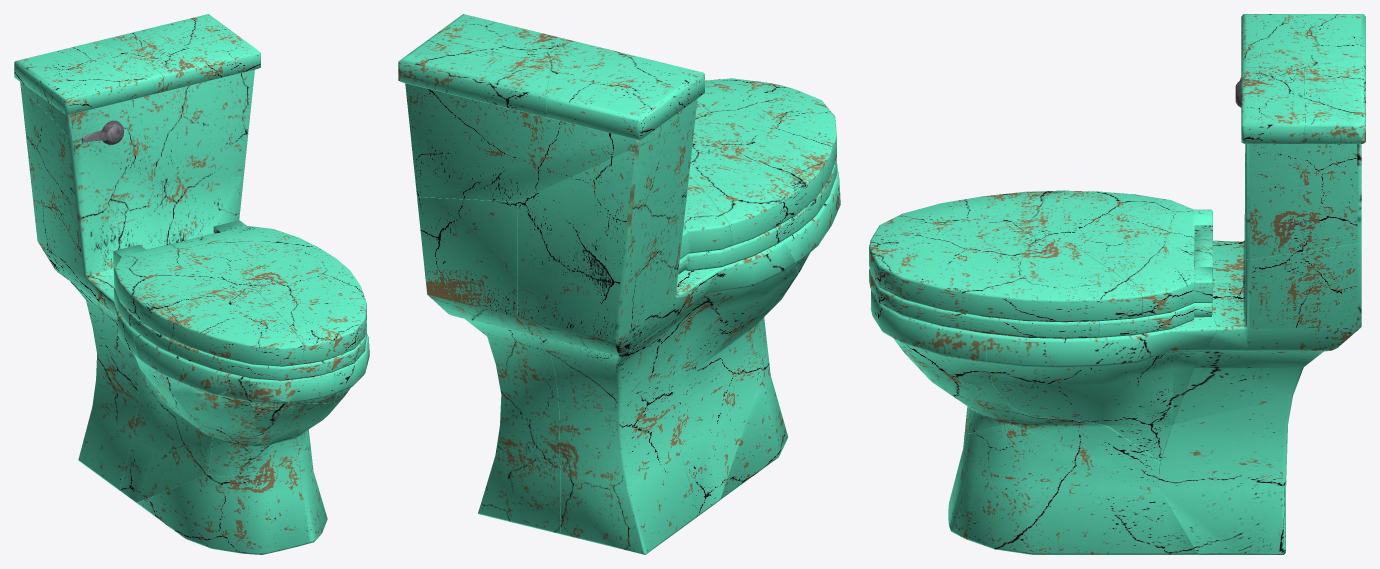
File: Toilet man Ragdoll.fbx
3 renders of one model, left to right at view 1: azimuth 30°, elevation 25°; view 2: azimuth 150°, elevation 25°; view 3: azimuth 270°, elevation 25°, orthographic. The views are drawn at different scales.
Parts seen in each view (by area): view 1: Toilet Ragdoll Body_cell.007, Toilet Ragdoll Body_cell.010, Seat Lid Ragdoll_cell.001, Toilet Ragdoll Body_cell.002, Seat Lid Ragdoll_cell, Toilet Ragdoll Body_cell.009, Back Lid Ragdoll_cell.001, Seat Lid Ragdoll_cell.002, Toilet Ragdoll Body_cell.004, Toilet Ragdoll Body_cell.011, Back Lid Ragdoll_cell, Toilet Ragdoll Body_cell.005 (+10 smaller); view 2: Toilet Ragdoll Body_cell.007, Toilet Ragdoll Body_cell.011, Toilet Ragdoll Body_cell.009, Toilet Ragdoll Body_cell.010, Seat Lid Ragdoll_cell.001, Back Lid Ragdoll_cell.001, Back Lid Ragdoll_cell.003, Toilet Ragdoll Body_cell.002, Back Lid Ragdoll_cell, Seat Lid Ragdoll_cell, Seat Ragdoll_cell, Seat Lid Ragdoll_cell.002 (+2 smaller); view 3: Toilet Ragdoll Body_cell.011, Toilet Ragdoll Body_cell.006, Toilet Ragdoll Body_cell, Seat Lid Ragdoll_cell, Toilet Ragdoll Body_cell.010, Seat Lid Ragdoll_cell.002, Seat Lid Ragdoll_cell.001, Back Lid Ragdoll_cell.001, Toilet Ragdoll Body_cell.008, Back Lid Ragdoll_cell, Toilet Ragdoll Body_cell.009, Seat Ragdoll_cell.001 (+6 smaller).
Part boxes in pixels (<box>): Toilet Ragdoll Body_cell.007: <box>20,86,162,490</box>; Toilet Ragdoll Body_cell.010: <box>20,69,254,180</box>; Seat Lid Ragdoll_cell.001: <box>115,269,303,366</box>; Toilet Ragdoll Body_cell.002: <box>137,459,311,554</box>; Seat Lid Ragdoll_cell: <box>242,236,366,364</box>; Toilet Ragdoll Body_cell.009: <box>110,297,212,502</box>; Back Lid Ragdoll_cell.001: <box>14,42,163,115</box>; Seat Lid Ragdoll_cell.002: <box>113,220,293,289</box>; Toilet Ragdoll Body_cell.004: <box>172,382,264,476</box>; Toilet Ragdoll Body_cell.011: <box>162,177,243,245</box>; Back Lid Ragdoll_cell: <box>137,32,260,92</box>; Toilet Ragdoll Body_cell.005: <box>248,379,340,469</box>; Toilet Ragdoll Body_cell.007: <box>518,125,715,554</box>; Toilet Ragdoll Body_cell.011: <box>417,197,560,534</box>; Toilet Ragdoll Body_cell.009: <box>673,241,797,516</box>; Toilet Ragdoll Body_cell.010: <box>405,83,697,201</box>; Seat Lid Ragdoll_cell.001: <box>689,92,836,245</box>; Back Lid Ragdoll_cell.001: <box>545,43,704,139</box>; Back Lid Ragdoll_cell.003: <box>398,54,551,117</box>; Toilet Ragdoll Body_cell.002: <box>718,355,788,501</box>; Back Lid Ragdoll_cell: <box>431,14,583,65</box>; Seat Lid Ragdoll_cell: <box>692,78,800,144</box>; Seat Ragdoll_cell: <box>678,186,825,274</box>; Seat Lid Ragdoll_cell.002: <box>680,175,732,259</box>; Toilet Ragdoll Body_cell.011: <box>1158,228,1361,554</box>; Toilet Ragdoll Body_cell.006: <box>950,423,1198,554</box>; Toilet Ragdoll Body_cell: <box>987,313,1216,462</box>; Seat Lid Ragdoll_cell: <box>869,233,1141,322</box>; Toilet Ragdoll Body_cell.010: <box>1245,144,1361,259</box>; Seat Lid Ragdoll_cell.002: <box>1069,198,1212,317</box>; Seat Lid Ragdoll_cell.001: <box>873,190,1160,242</box>; Back Lid Ragdoll_cell.001: <box>1241,14,1365,70</box>; Toilet Ragdoll Body_cell.008: <box>873,294,992,384</box>; Back Lid Ragdoll_cell: <box>1241,67,1305,143</box>; Toilet Ragdoll Body_cell.009: <box>1009,408,1160,486</box>; Seat Ragdoll_cell.001: <box>869,269,1099,338</box>.
Size of the model in its own units: 236 by 439 by 440.
2 materials, 2 textured.
